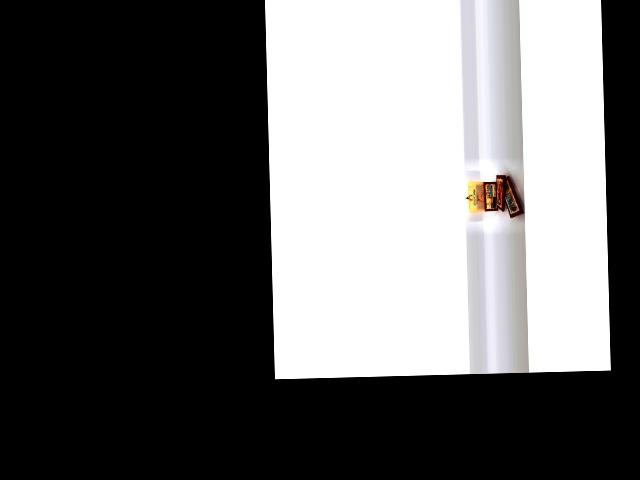chocolate: (501, 173, 527, 226)
